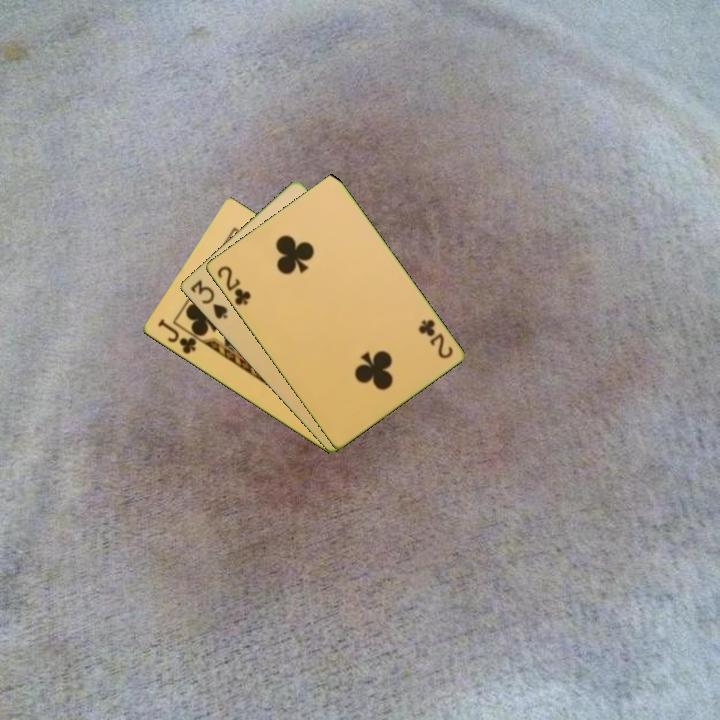2c: (414, 316, 456, 362), (213, 262, 253, 308)
3s: (186, 276, 230, 322)
Jc: (154, 315, 199, 357)
